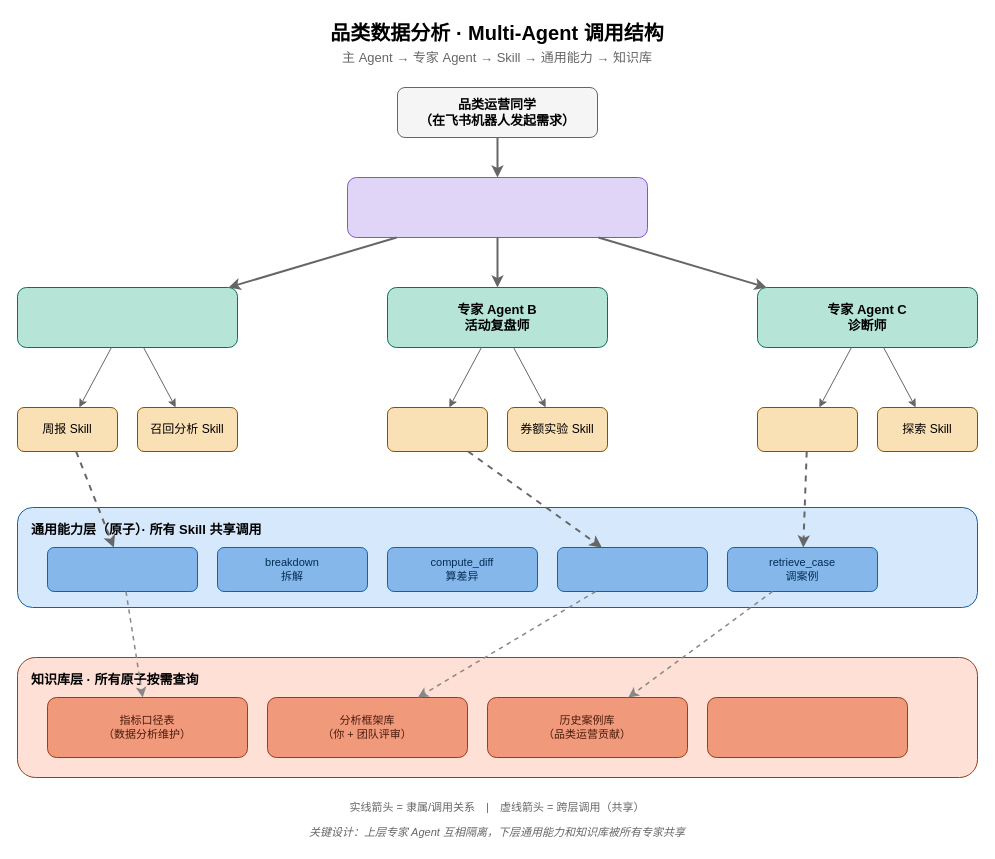
Image size: 995x859. Some labels were removed from this diagram. Here are the shapes that lost their labels. From the top down, the centre of each, then its label:
the point at 497,207: 主 Agent 理解意图 · 路由分发 · 整合输出
the point at 127,317: 专家 Agent A 日常分析师
the point at 437,429: 活动复盘 Skill
the point at 807,429: 诊断 Skill
the point at 122,569: fetch_metrics 取数
the point at 632,569: apply_framework 套框架
the point at 807,727: 品类基线表 （数据分析维护）
